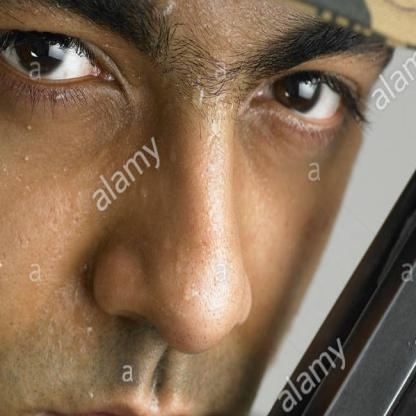gun: (164, 0, 415, 415)
